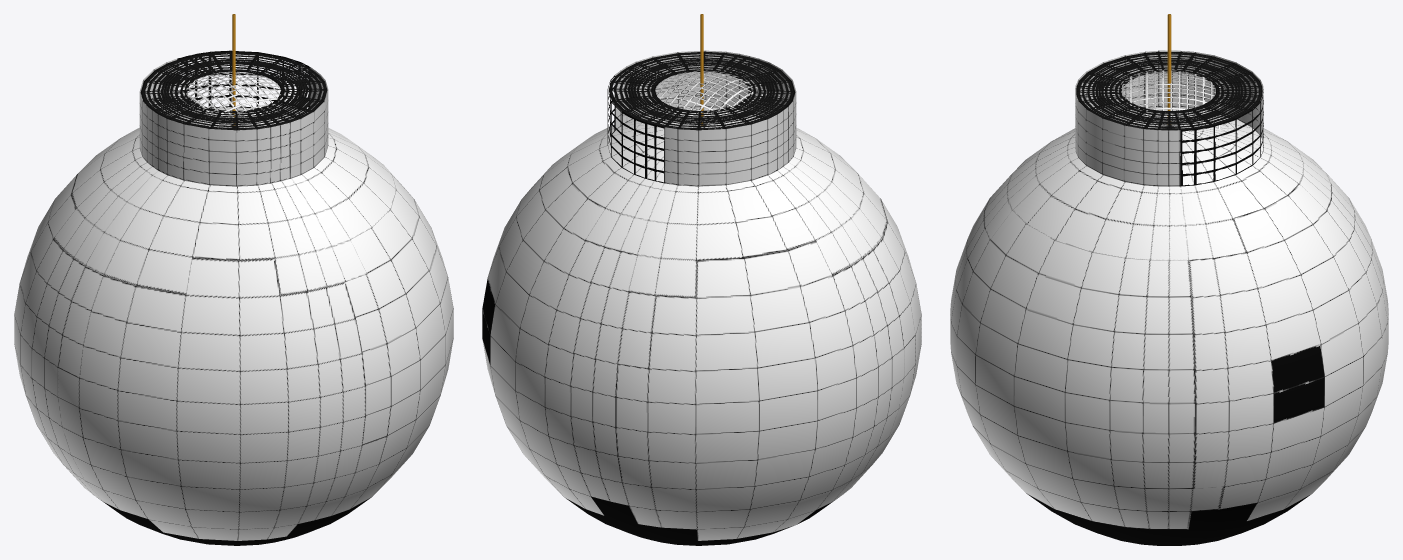
File: bombe5.fbx
3 views of the same model, side by side, from view 1: azimuth 30°, elevation 25°; view 2: azimuth 150°, elevation 25°; view 3: azimuth 270°, elevation 25° (orthographic).
Visible parts, largest first — view 1: SurfSphere; view 2: SurfSphere; view 3: SurfSphere.
Boxes of the visible parts, x1=… form: SurfSphere: x1=14, y1=50, x2=453, y2=545; SurfSphere: x1=482, y1=50, x2=921, y2=545; SurfSphere: x1=950, y1=50, x2=1388, y2=545.
Bounding box in the file's own units: 2.53 × 3.25 × 2.53.
2 materials, 1 textured.
